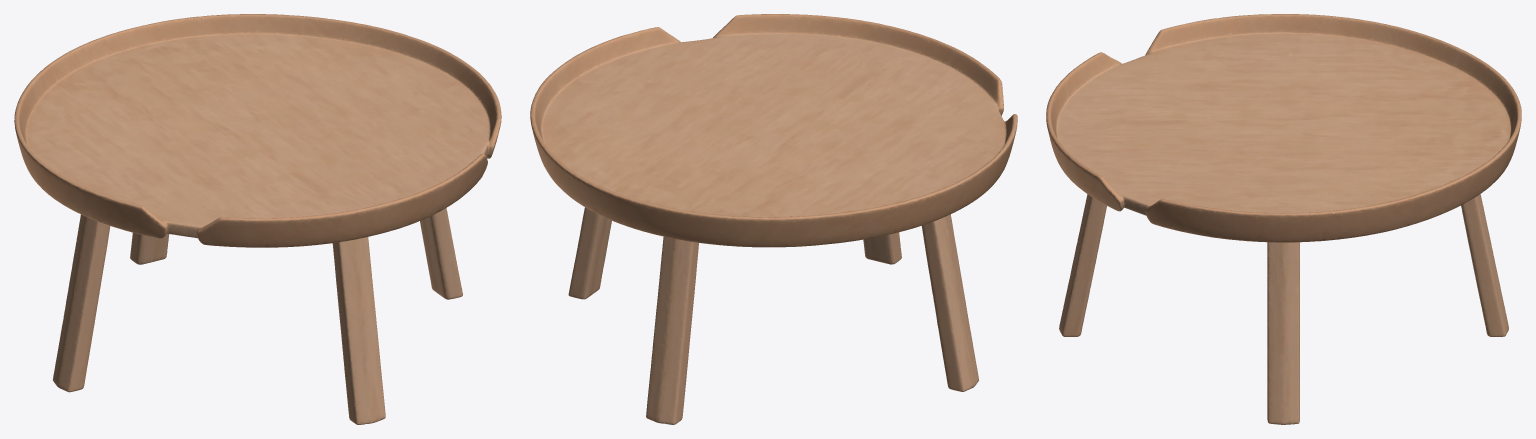
The model's file is ROUNDTABLE.glb.
The picture shows the model from 3 angles, left to right: view 1: azimuth 30°, elevation 25°; view 2: azimuth 150°, elevation 25°; view 3: azimuth 270°, elevation 25°; orthographic projection. The views are drawn at different scales.
Visible parts, largest first — view 1: world; view 2: world; view 3: world.
Part boxes in pixels (bbox=[...]): world: bbox=[14, 14, 501, 424]; world: bbox=[530, 14, 1017, 424]; world: bbox=[1046, 14, 1521, 424].
Size of the model in its own units: 1 by 0.5049 by 1.
Materials: 1 (1 with a texture image).
